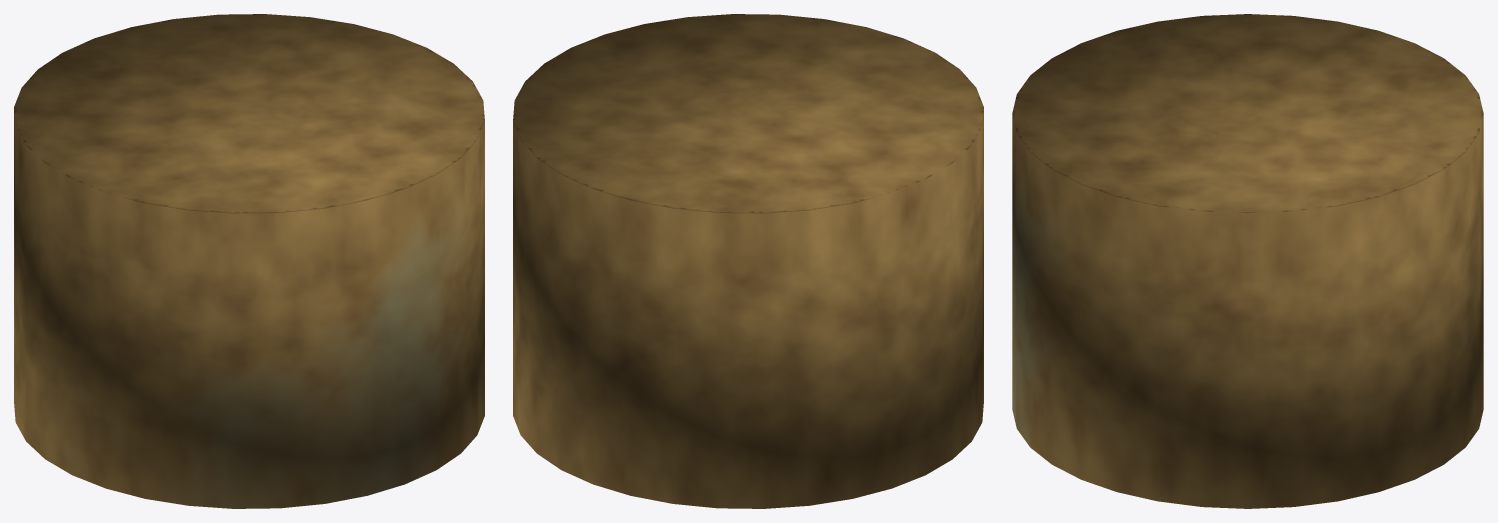
The model's file is Suspension pin__n2.glb.
The picture shows the model from 3 angles, left to right: view 1: azimuth 30°, elevation 25°; view 2: azimuth 150°, elevation 25°; view 3: azimuth 270°, elevation 25°; orthographic projection.
Parts seen in each view (by area): view 1: Suspension pin; view 2: Suspension pin; view 3: Suspension pin.
Boxes of the visible parts, x1=… form: Suspension pin: x1=14, y1=14, x2=484, y2=508; Suspension pin: x1=513, y1=14, x2=983, y2=508; Suspension pin: x1=1012, y1=14, x2=1483, y2=508.
Size of the model in its own units: 0.13 by 0.09 by 0.13.
Materials: 1 (1 with a texture image).
